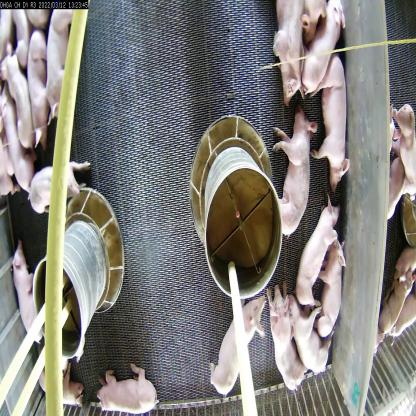Pig: (264, 100, 315, 242), (204, 286, 268, 393), (263, 272, 313, 397), (88, 349, 176, 415), (312, 52, 351, 196), (294, 195, 340, 314), (0, 79, 40, 202), (11, 236, 50, 352), (0, 50, 39, 157), (306, 2, 346, 101), (44, 3, 75, 127), (270, 0, 304, 109), (19, 161, 96, 209), (284, 295, 327, 378), (376, 257, 416, 346), (25, 25, 52, 148), (318, 232, 347, 346), (39, 356, 88, 416), (393, 102, 416, 211)
